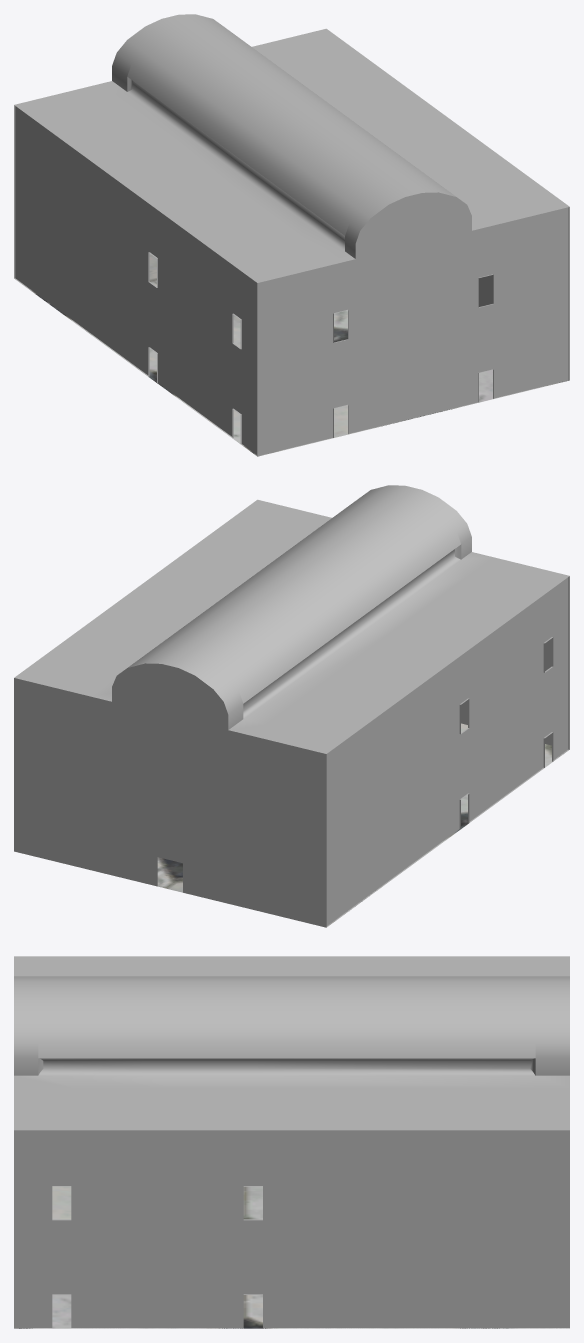
File: Mansion_main2.fbx
3 renders of one model, top to bottom at view 1: azimuth 30°, elevation 25°; view 2: azimuth 150°, elevation 25°; view 3: azimuth 270°, elevation 25°, orthographic. The views are drawn at different scales.
Visible parts, largest first — view 1: ManorStartRoom_1; view 2: ManorStartRoom_1; view 3: ManorStartRoom_1.
Part boxes in pixels (box(x1,y1,x2,y2)): ManorStartRoom_1: box(14, 14, 569, 456); ManorStartRoom_1: box(14, 485, 569, 927); ManorStartRoom_1: box(14, 956, 569, 1328).
Size of the model in its own units: 3442 by 2354 by 4645.
